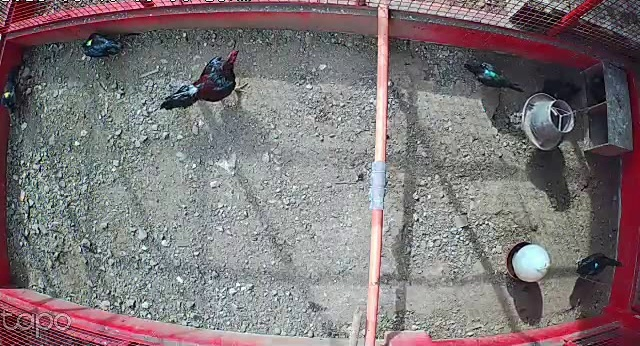Chicken: (462, 56, 525, 94), (571, 248, 624, 279), (0, 66, 29, 118), (77, 32, 128, 61), (541, 80, 580, 103)
Rooster: (162, 48, 256, 111)
Saddle_Color_Blue: (595, 262, 599, 268)
Saddle_Color_Yellow: (3, 92, 11, 97)
